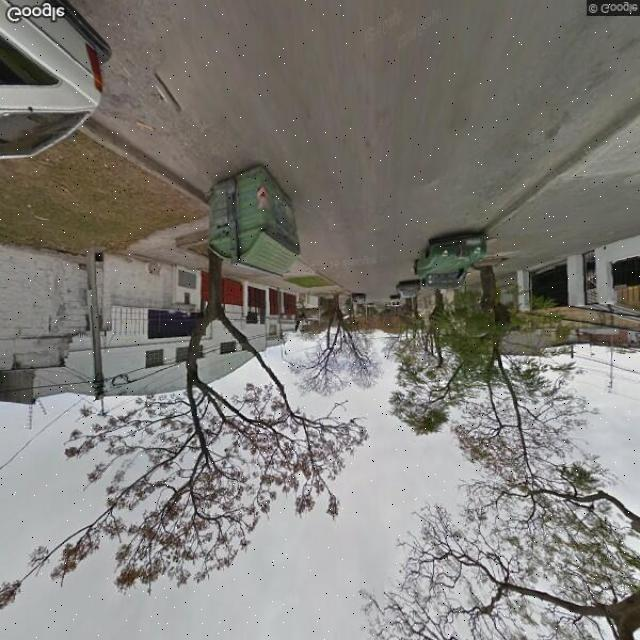garbage container: (197, 155, 318, 290)
